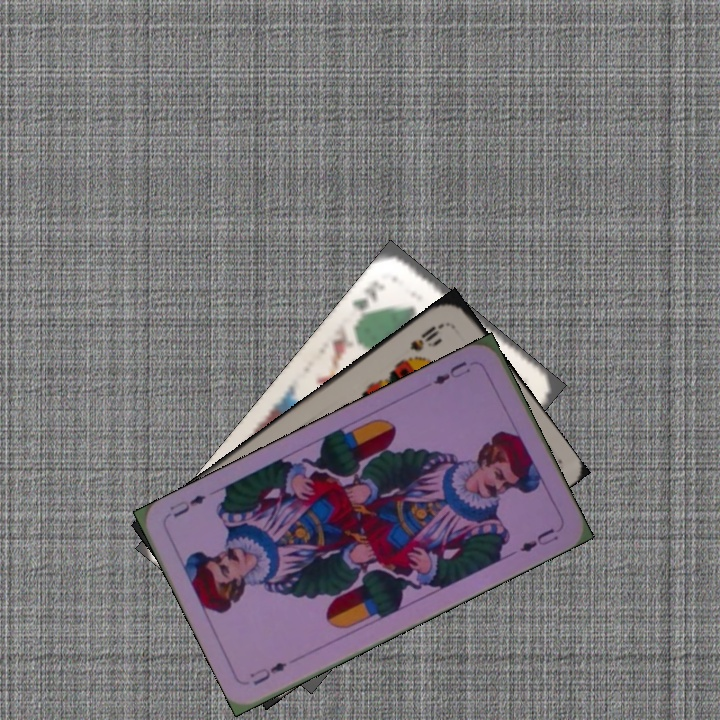EU: (429, 357, 473, 388), (245, 658, 289, 688)
GK: (347, 275, 388, 323)
S10: (405, 319, 450, 354)
